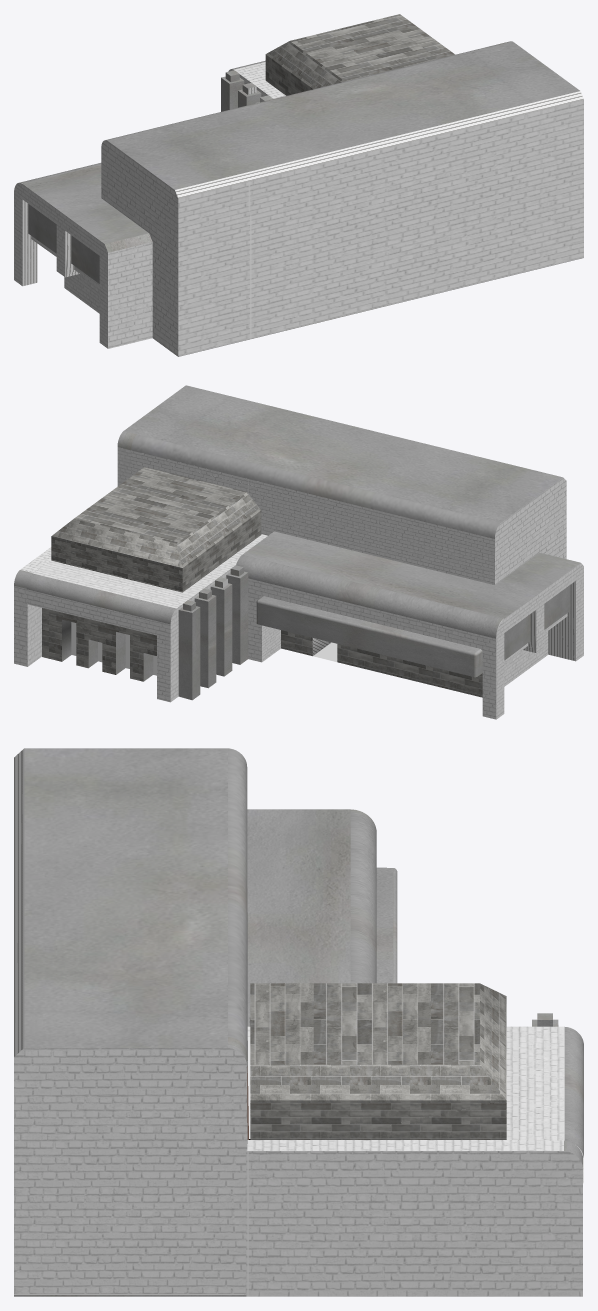
File: FachadaConsultorioTest2.fbx
The picture shows the model from 3 angles, top to bottom: view 1: azimuth 30°, elevation 25°; view 2: azimuth 150°, elevation 25°; view 3: azimuth 270°, elevation 25°; orthographic projection. The views are drawn at different scales.
Visible parts, largest first — view 1: hospital.3.0_Cuerpo 03, hospital.3.0_Cuerpo 03.006; view 2: hospital.3.0_Cuerpo 03, hospital.3.0_Cuerpo 03.006, hospital.3.0_Cuerpo 03.002, hospital.3.0_Cuerpo 03.004, hospital.3.0_Cuerpo 03.001, Cubo.002; view 3: hospital.3.0_Cuerpo 03, hospital.3.0_Cuerpo 03.001, hospital.3.0_Cuerpo 03.006.
Part boxes in pixels (box(x1,y1,x2,y2)): hospital.3.0_Cuerpo 03: box(14, 41, 583, 356); hospital.3.0_Cuerpo 03.006: box(265, 14, 454, 95); hospital.3.0_Cuerpo 03: box(26, 385, 583, 719); hospital.3.0_Cuerpo 03.006: box(51, 467, 261, 592); hospital.3.0_Cuerpo 03.002: box(42, 608, 156, 681); hospital.3.0_Cuerpo 03.004: box(281, 630, 482, 697); hospital.3.0_Cuerpo 03.001: box(14, 547, 51, 666); Cubo.002: box(71, 622, 156, 675); hospital.3.0_Cuerpo 03: box(14, 748, 583, 1296); hospital.3.0_Cuerpo 03.001: box(246, 1140, 582, 1296); hospital.3.0_Cuerpo 03.006: box(250, 983, 506, 1139).
Bounding box in the file's own units: 10016 × 3505 × 7253.
8 materials, 4 textured.
